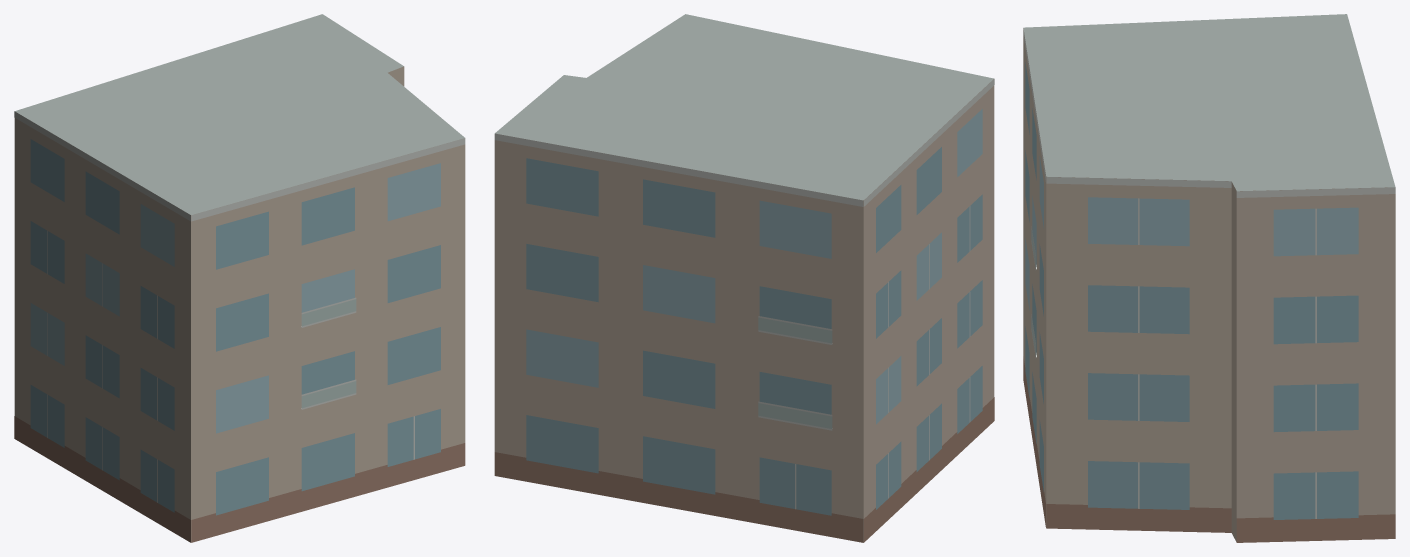
The model's file is survey-upis-32984667.glb.
The picture shows the model from 3 angles, left to right: view 1: azimuth 30°, elevation 25°; view 2: azimuth 150°, elevation 25°; view 3: azimuth 270°, elevation 25°; orthographic projection. The views are drawn at different scales.
Visible parts, largest first — view 1: survey-upis-32984667.tmp; view 2: survey-upis-32984667.tmp; view 3: survey-upis-32984667.tmp.
Part boxes in pixels (<box>): survey-upis-32984667.tmp: <box>14,14,465,542</box>; survey-upis-32984667.tmp: <box>494,14,994,542</box>; survey-upis-32984667.tmp: <box>1023,14,1395,542</box>.
Bounding box in the file's own units: 13.62 × 12.6 × 12.1.
